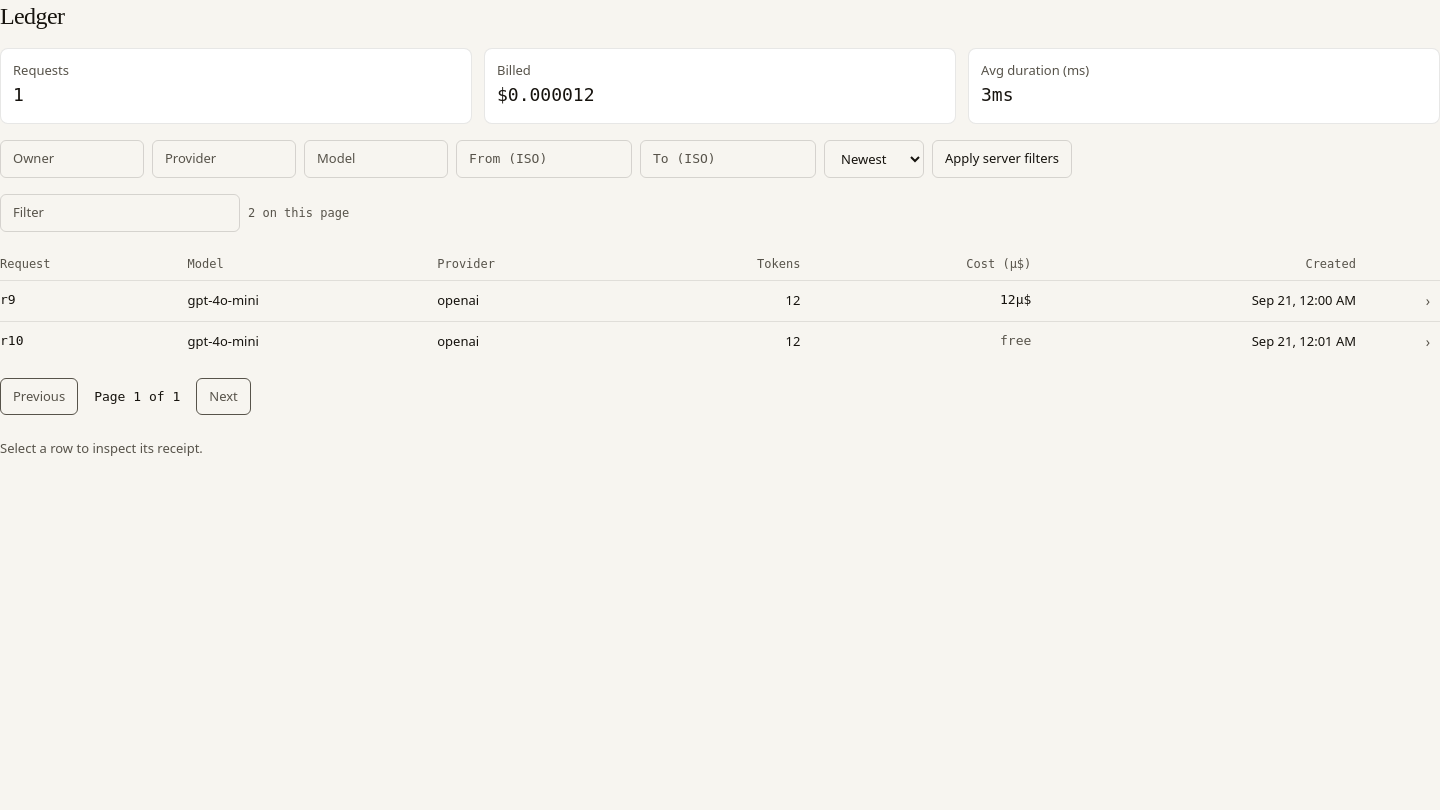
RunInspector › hydrates the twelve-field receipt on selection
Click the button named "inspect receipt r9": [1428, 300] box top-left (1416, 288), bottom-right (1439, 312)
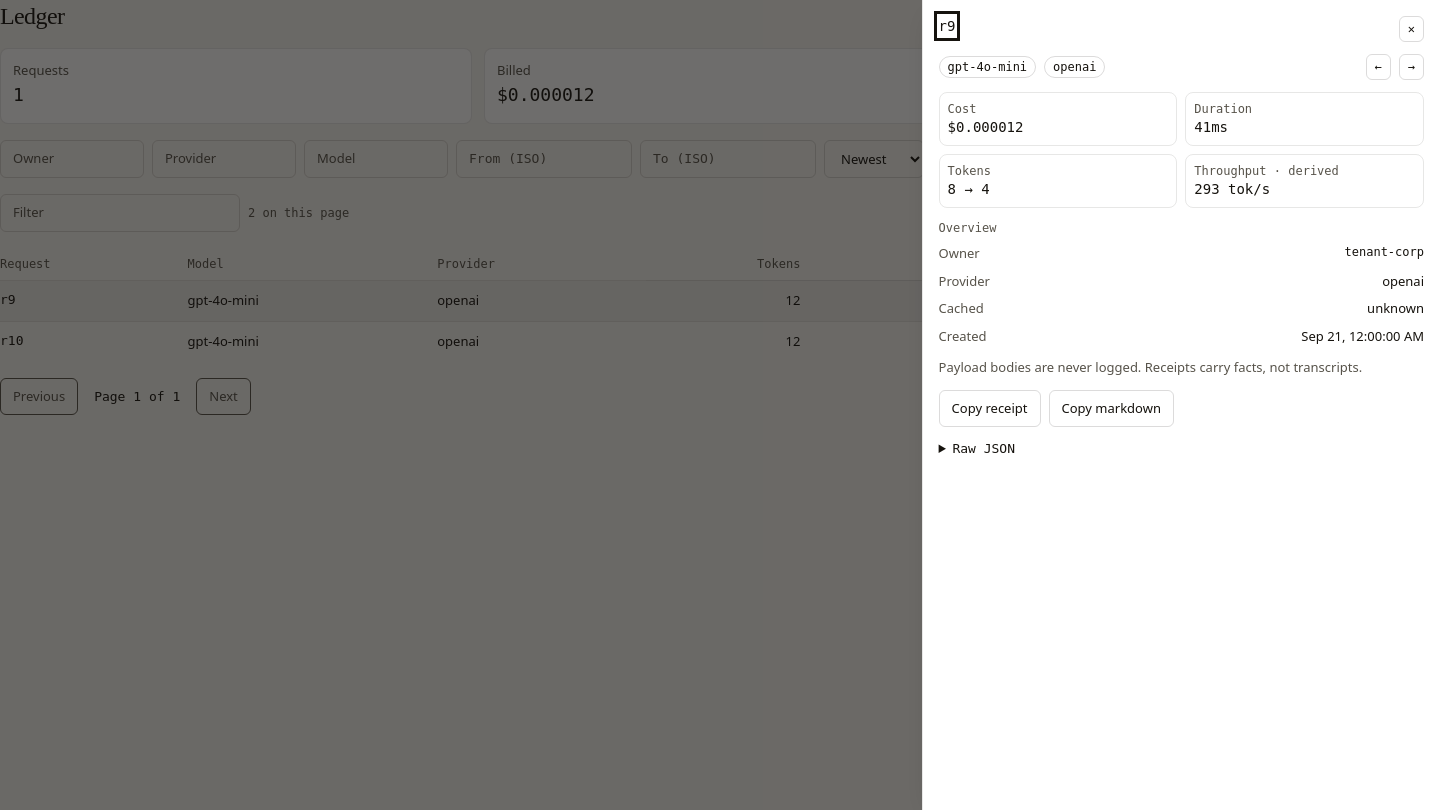
Expected: the text "tenant-corp" is shown, top-left (1344, 244), bottom-right (1424, 264)
Expected: the text "41ms" is shown, top-left (1194, 119), bottom-right (1228, 135)
